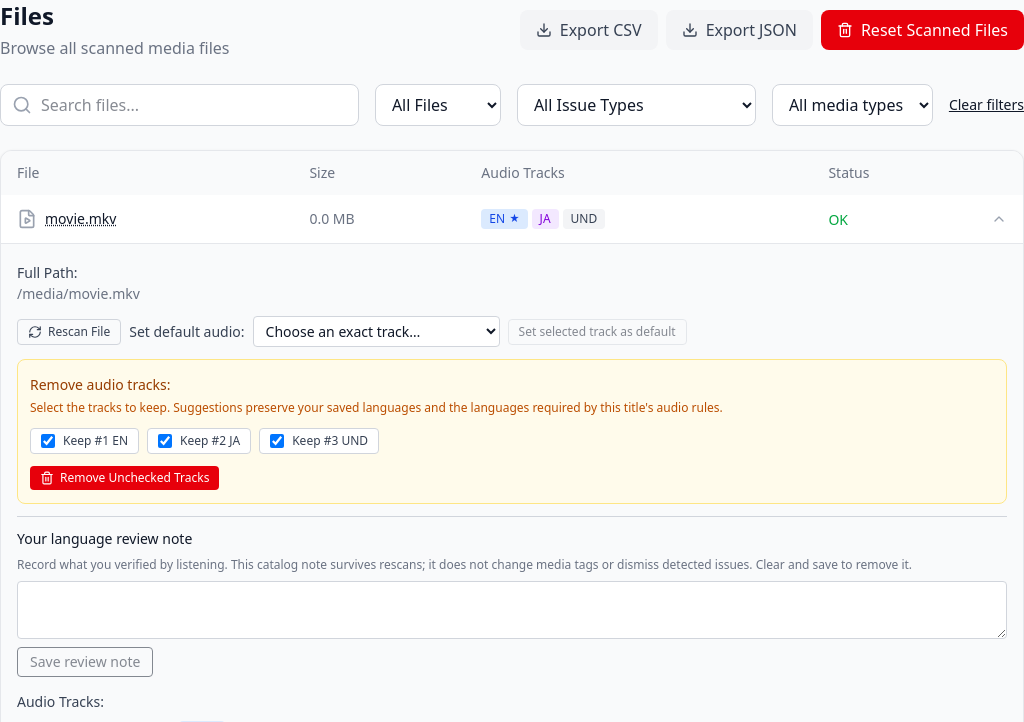
it: acknowledges a queued file action and links to durable progress instead of claiming completion
Click the button "Rescan File": {"x": 69, "y": 332} [17, 318, 121, 344]
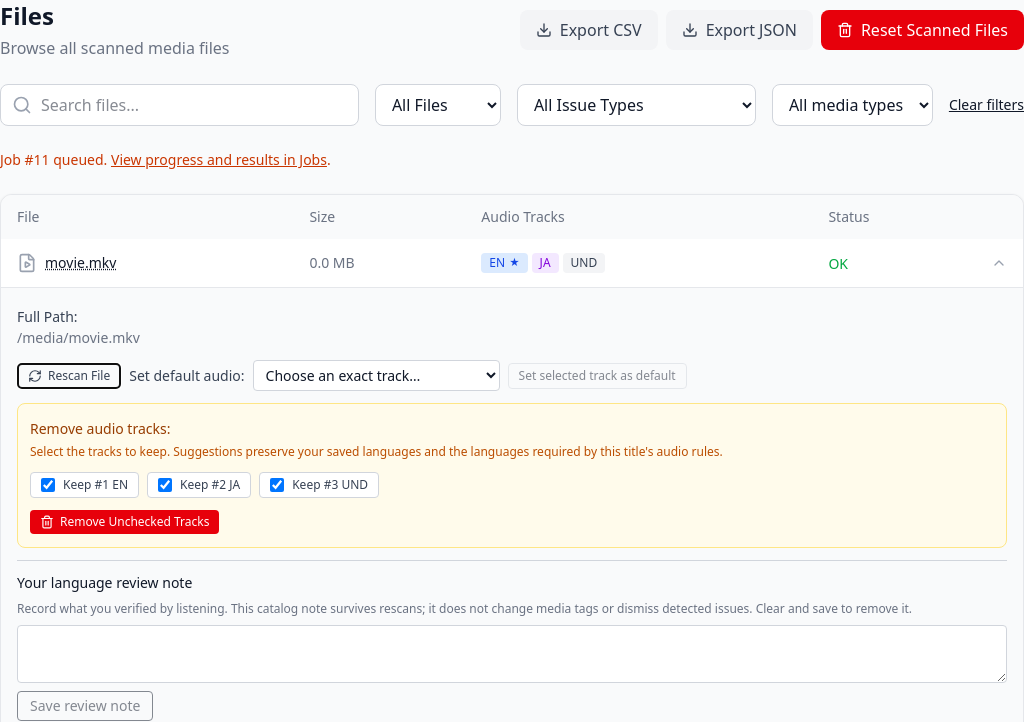
Expected: the text "Job #11 queued. View progress and results in Jobs ." is shown, [0, 150, 331, 169]
